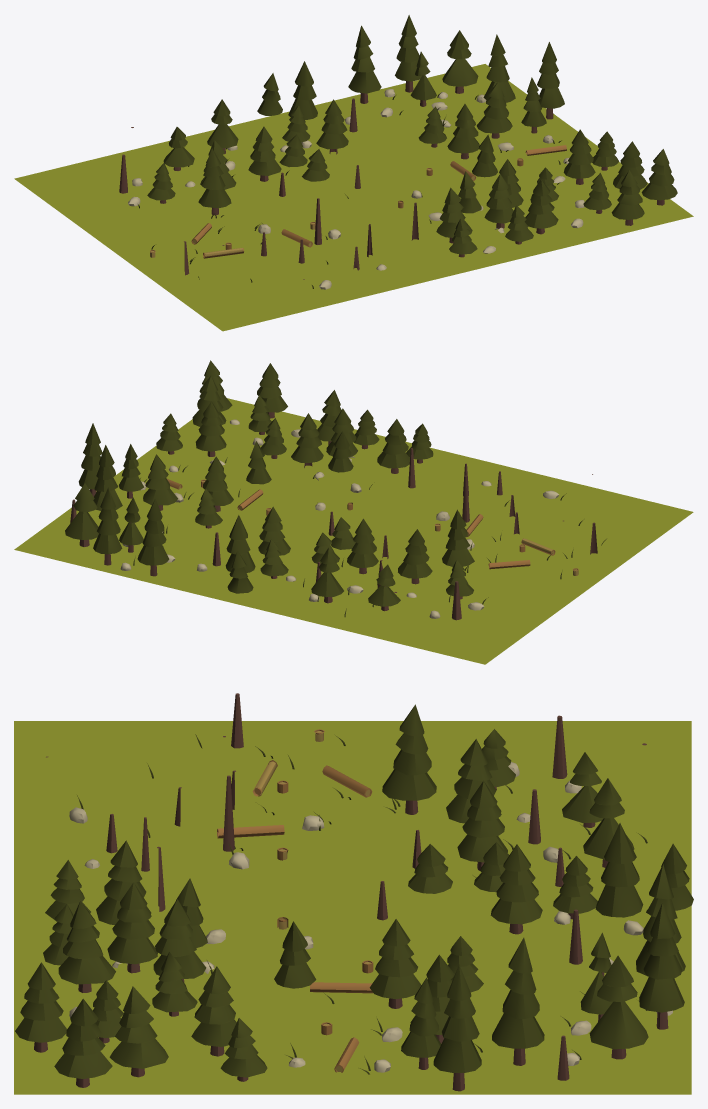
Rendered from forest.glb.
3 views of the same model, one above another, from view 1: azimuth 30°, elevation 25°; view 2: azimuth 150°, elevation 25°; view 3: azimuth 270°, elevation 25° (orthographic). The views are drawn at different scales.
Parts seen in each view (by area): view 1: Object_3; view 2: Object_3; view 3: Object_3.
Part boxes in pixels (x1,y1,x2,y2): Object_3: (14,15,693,331); Object_3: (14,360,693,664); Object_3: (14,693,693,1094).
Bounding box in the file's own units: 26.39 × 4.22 × 20.09.
Materials: 1 (1 with a texture image).
